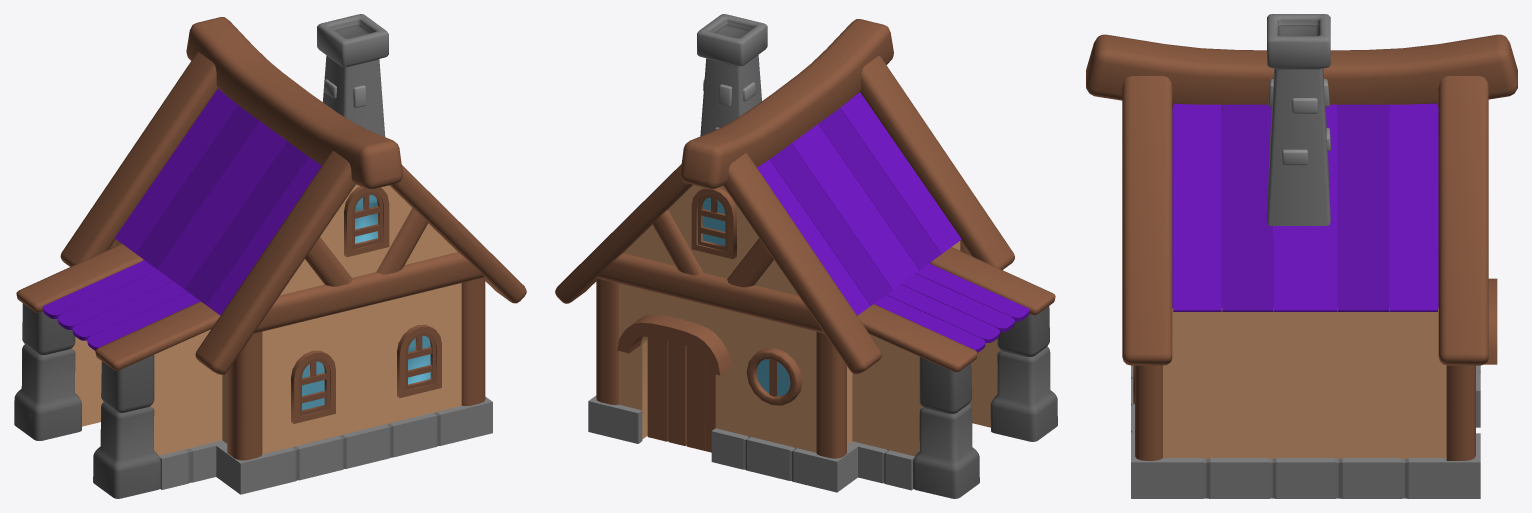
File: Building9.fbx
3 views of the same model, side by side, from view 1: azimuth 30°, elevation 25°; view 2: azimuth 150°, elevation 25°; view 3: azimuth 270°, elevation 25° (orthographic). The views are drawn at different scales.
Parts seen in each view (by area): view 1: Cube.123; view 2: Cube.123; view 3: Cube.123.
Boxes of the visible parts, x1,y1,x2,y2 form: Cube.123: (14, 14, 526, 498); Cube.123: (555, 14, 1057, 498); Cube.123: (1086, 14, 1517, 498).
Size of the model in its own units: 11.99 by 9.92 by 10.99.
